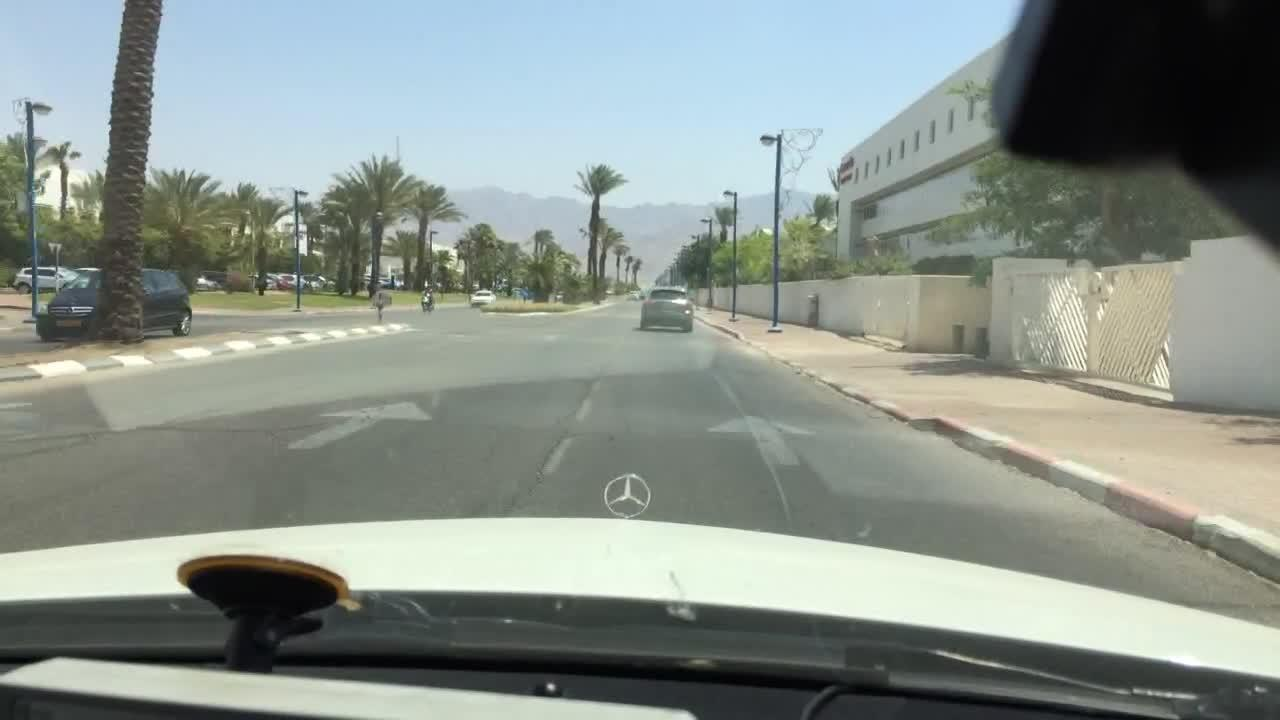Mercedes: (571, 461, 685, 536)
